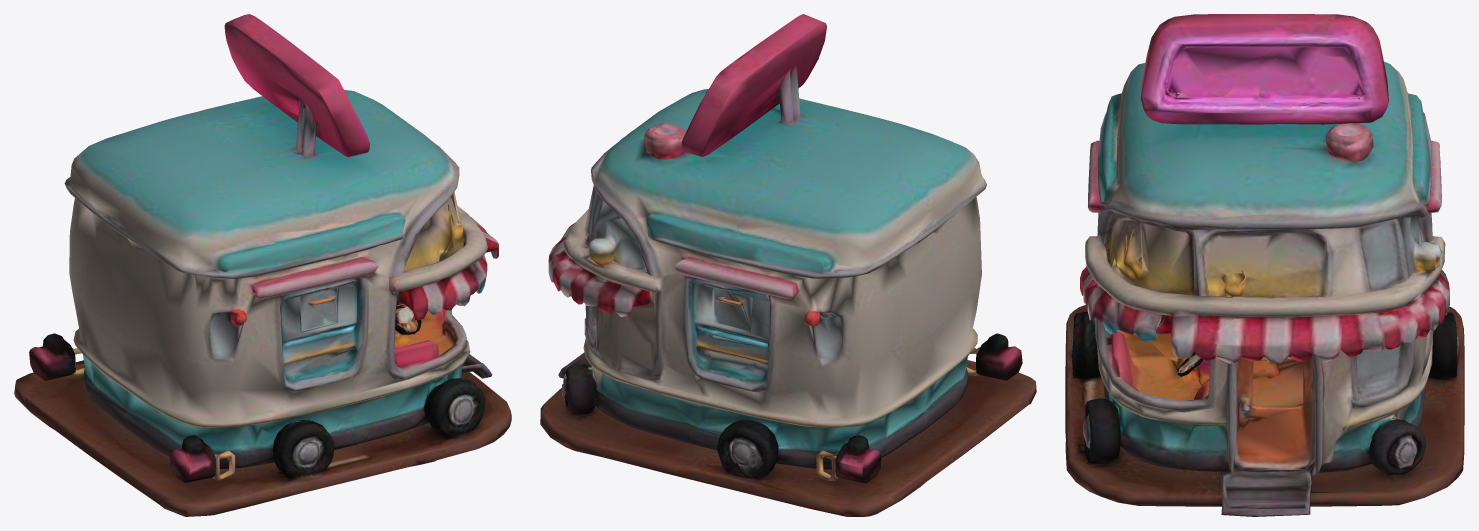
Rendered from retro-diner.glb.
3 renders of one model, left to right at view 1: azimuth 30°, elevation 25°; view 2: azimuth 150°, elevation 25°; view 3: azimuth 270°, elevation 25°, orthographic. The views are drawn at different scales.
Visible parts, largest first — view 1: tripo_node_5d607cb0-75e1-428b-9ed3-d7106fcd2168; view 2: tripo_node_5d607cb0-75e1-428b-9ed3-d7106fcd2168; view 3: tripo_node_5d607cb0-75e1-428b-9ed3-d7106fcd2168.
Boxes of the visible parts, bbox=[...] form: tripo_node_5d607cb0-75e1-428b-9ed3-d7106fcd2168: bbox=[14, 14, 511, 516]; tripo_node_5d607cb0-75e1-428b-9ed3-d7106fcd2168: bbox=[540, 14, 1036, 516]; tripo_node_5d607cb0-75e1-428b-9ed3-d7106fcd2168: bbox=[1065, 14, 1464, 516].
Bounding box in the file's own units: 0.9807 × 0.8902 × 0.8054.
1 material, 1 textured.
